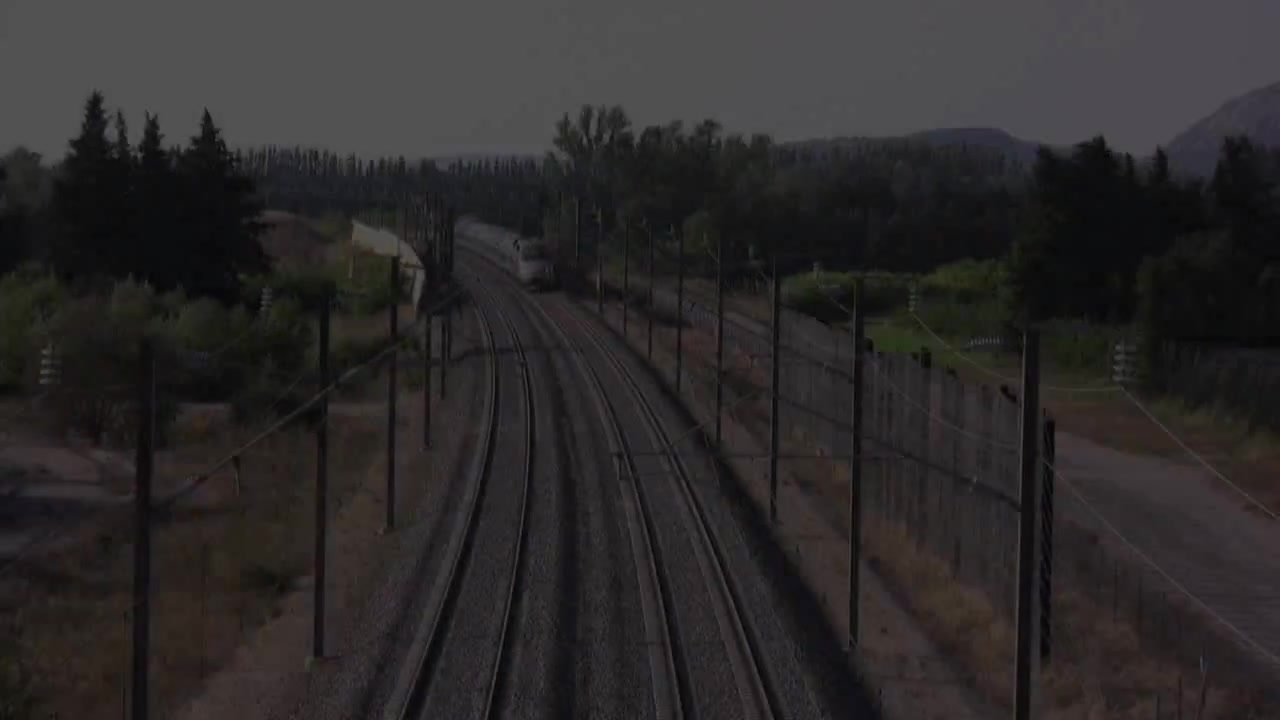train: (449, 209, 561, 291)
